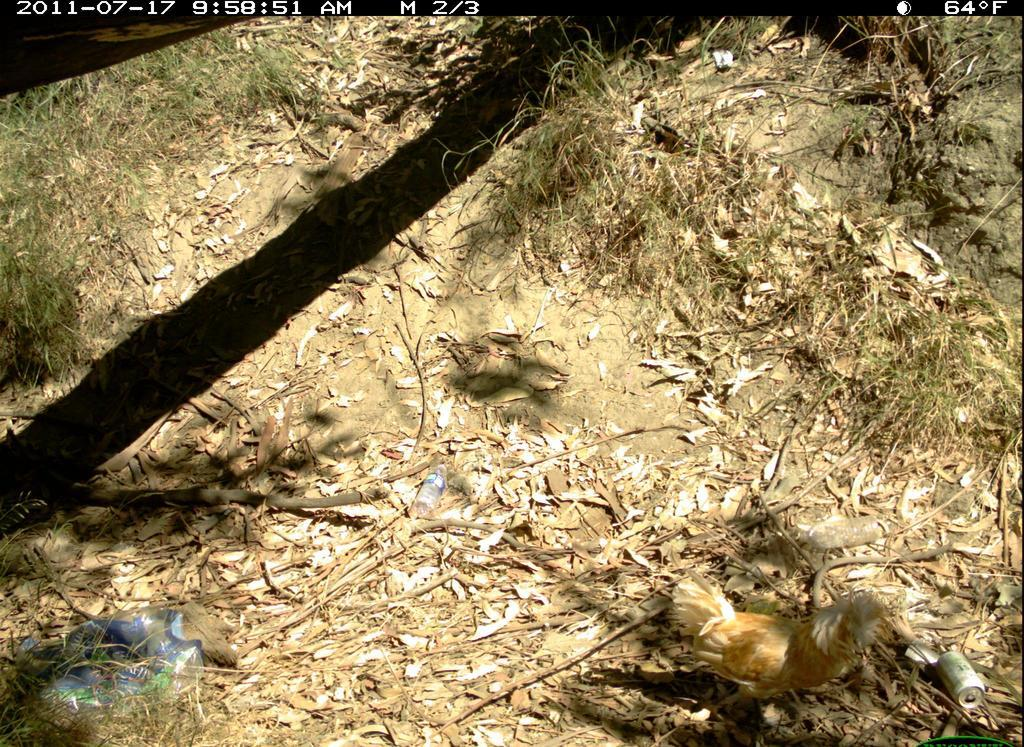bird: (666, 561, 881, 726)
